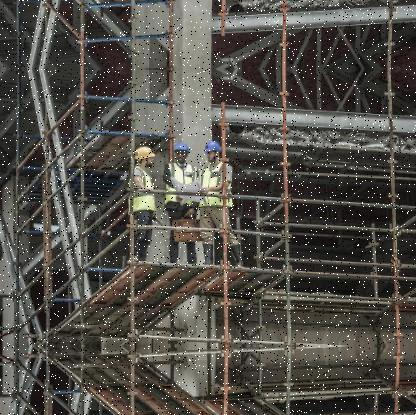helmet: (132, 145, 155, 166), (203, 138, 222, 162), (172, 140, 191, 163)
